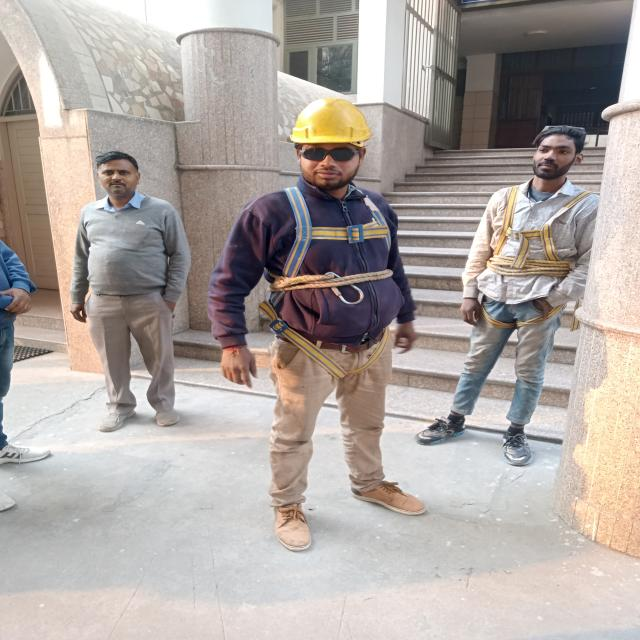no jacket: (210, 94, 431, 554)
unsafe: (432, 123, 597, 468), (66, 149, 196, 437)
